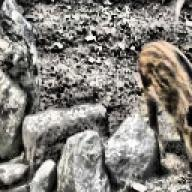boar: (135, 37, 192, 183)
